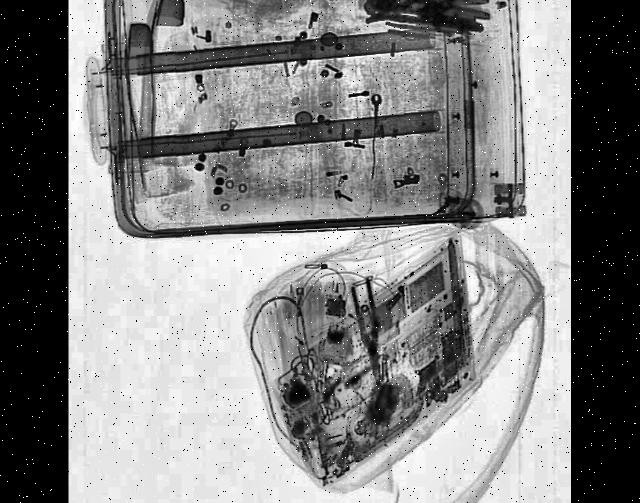Pliers: (350, 276, 392, 393)
